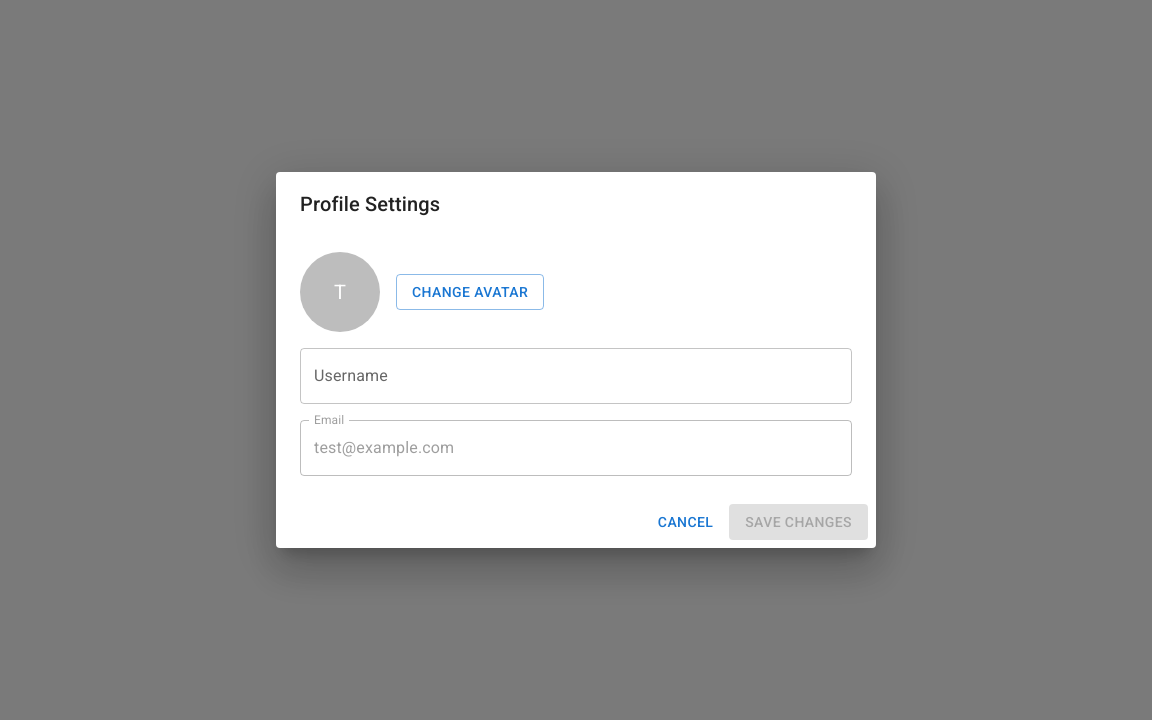
Scenario: ProfileModal › Username Update › enables save button when username is changed
This screenshot has width=1152, height=720.
Type "newusername" into the field labelled "Username" at [576, 376], box [300, 348, 852, 404]
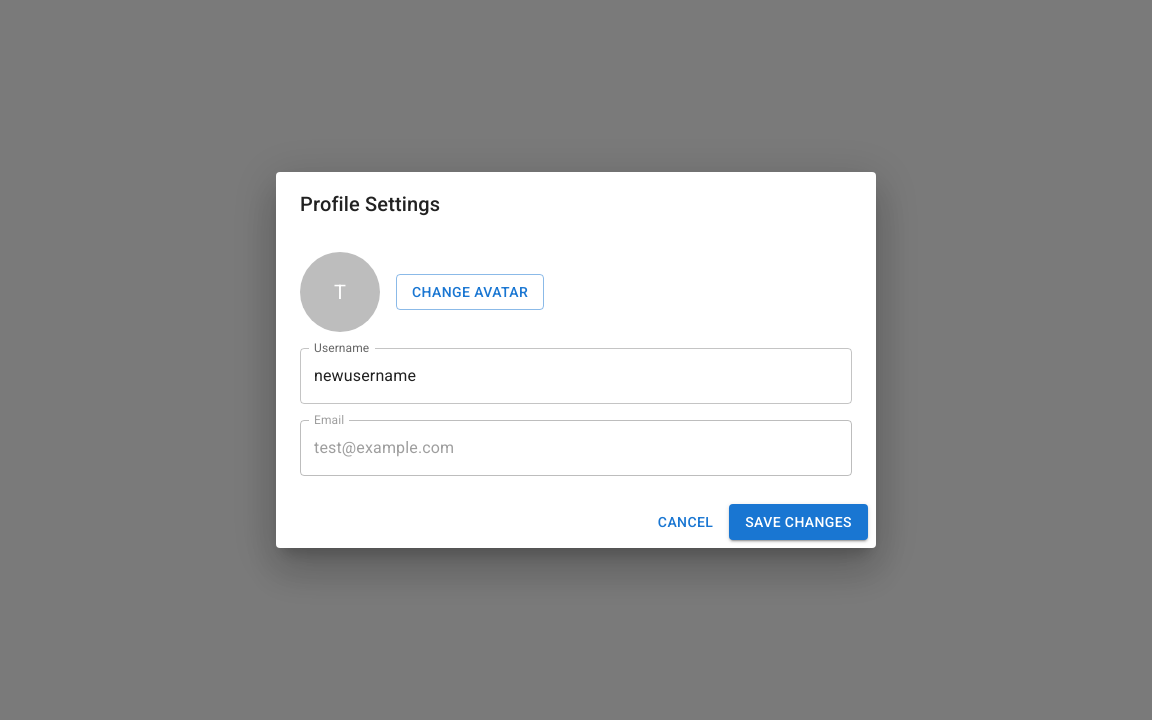
Now the button "Save Changes" is enabled, box [729, 504, 868, 540]
